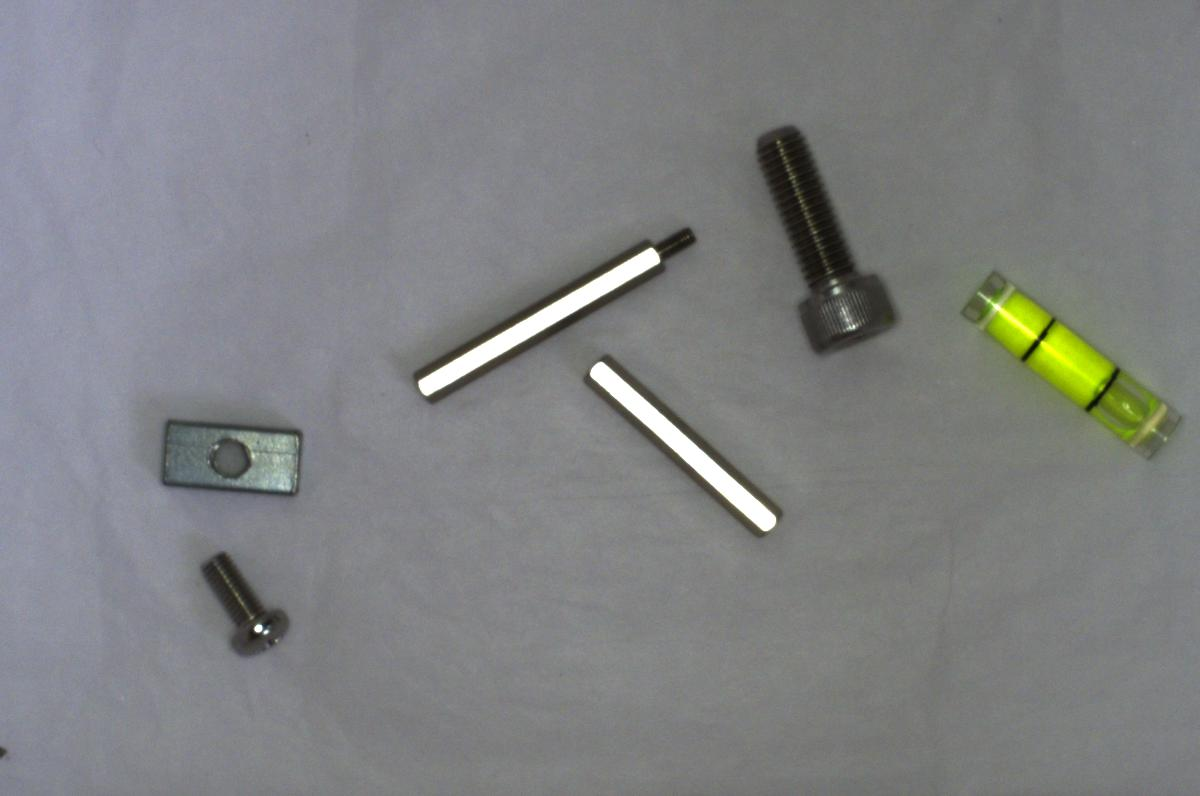Double hexagonal column: (572, 350, 784, 550)
Hexagon screw: (740, 114, 900, 360)
Hexagonal steel column: (407, 220, 699, 398)
Horizontal bubble: (954, 272, 1181, 463)
Rectangular nut: (154, 406, 310, 509)
Round head screw: (194, 542, 300, 660)
